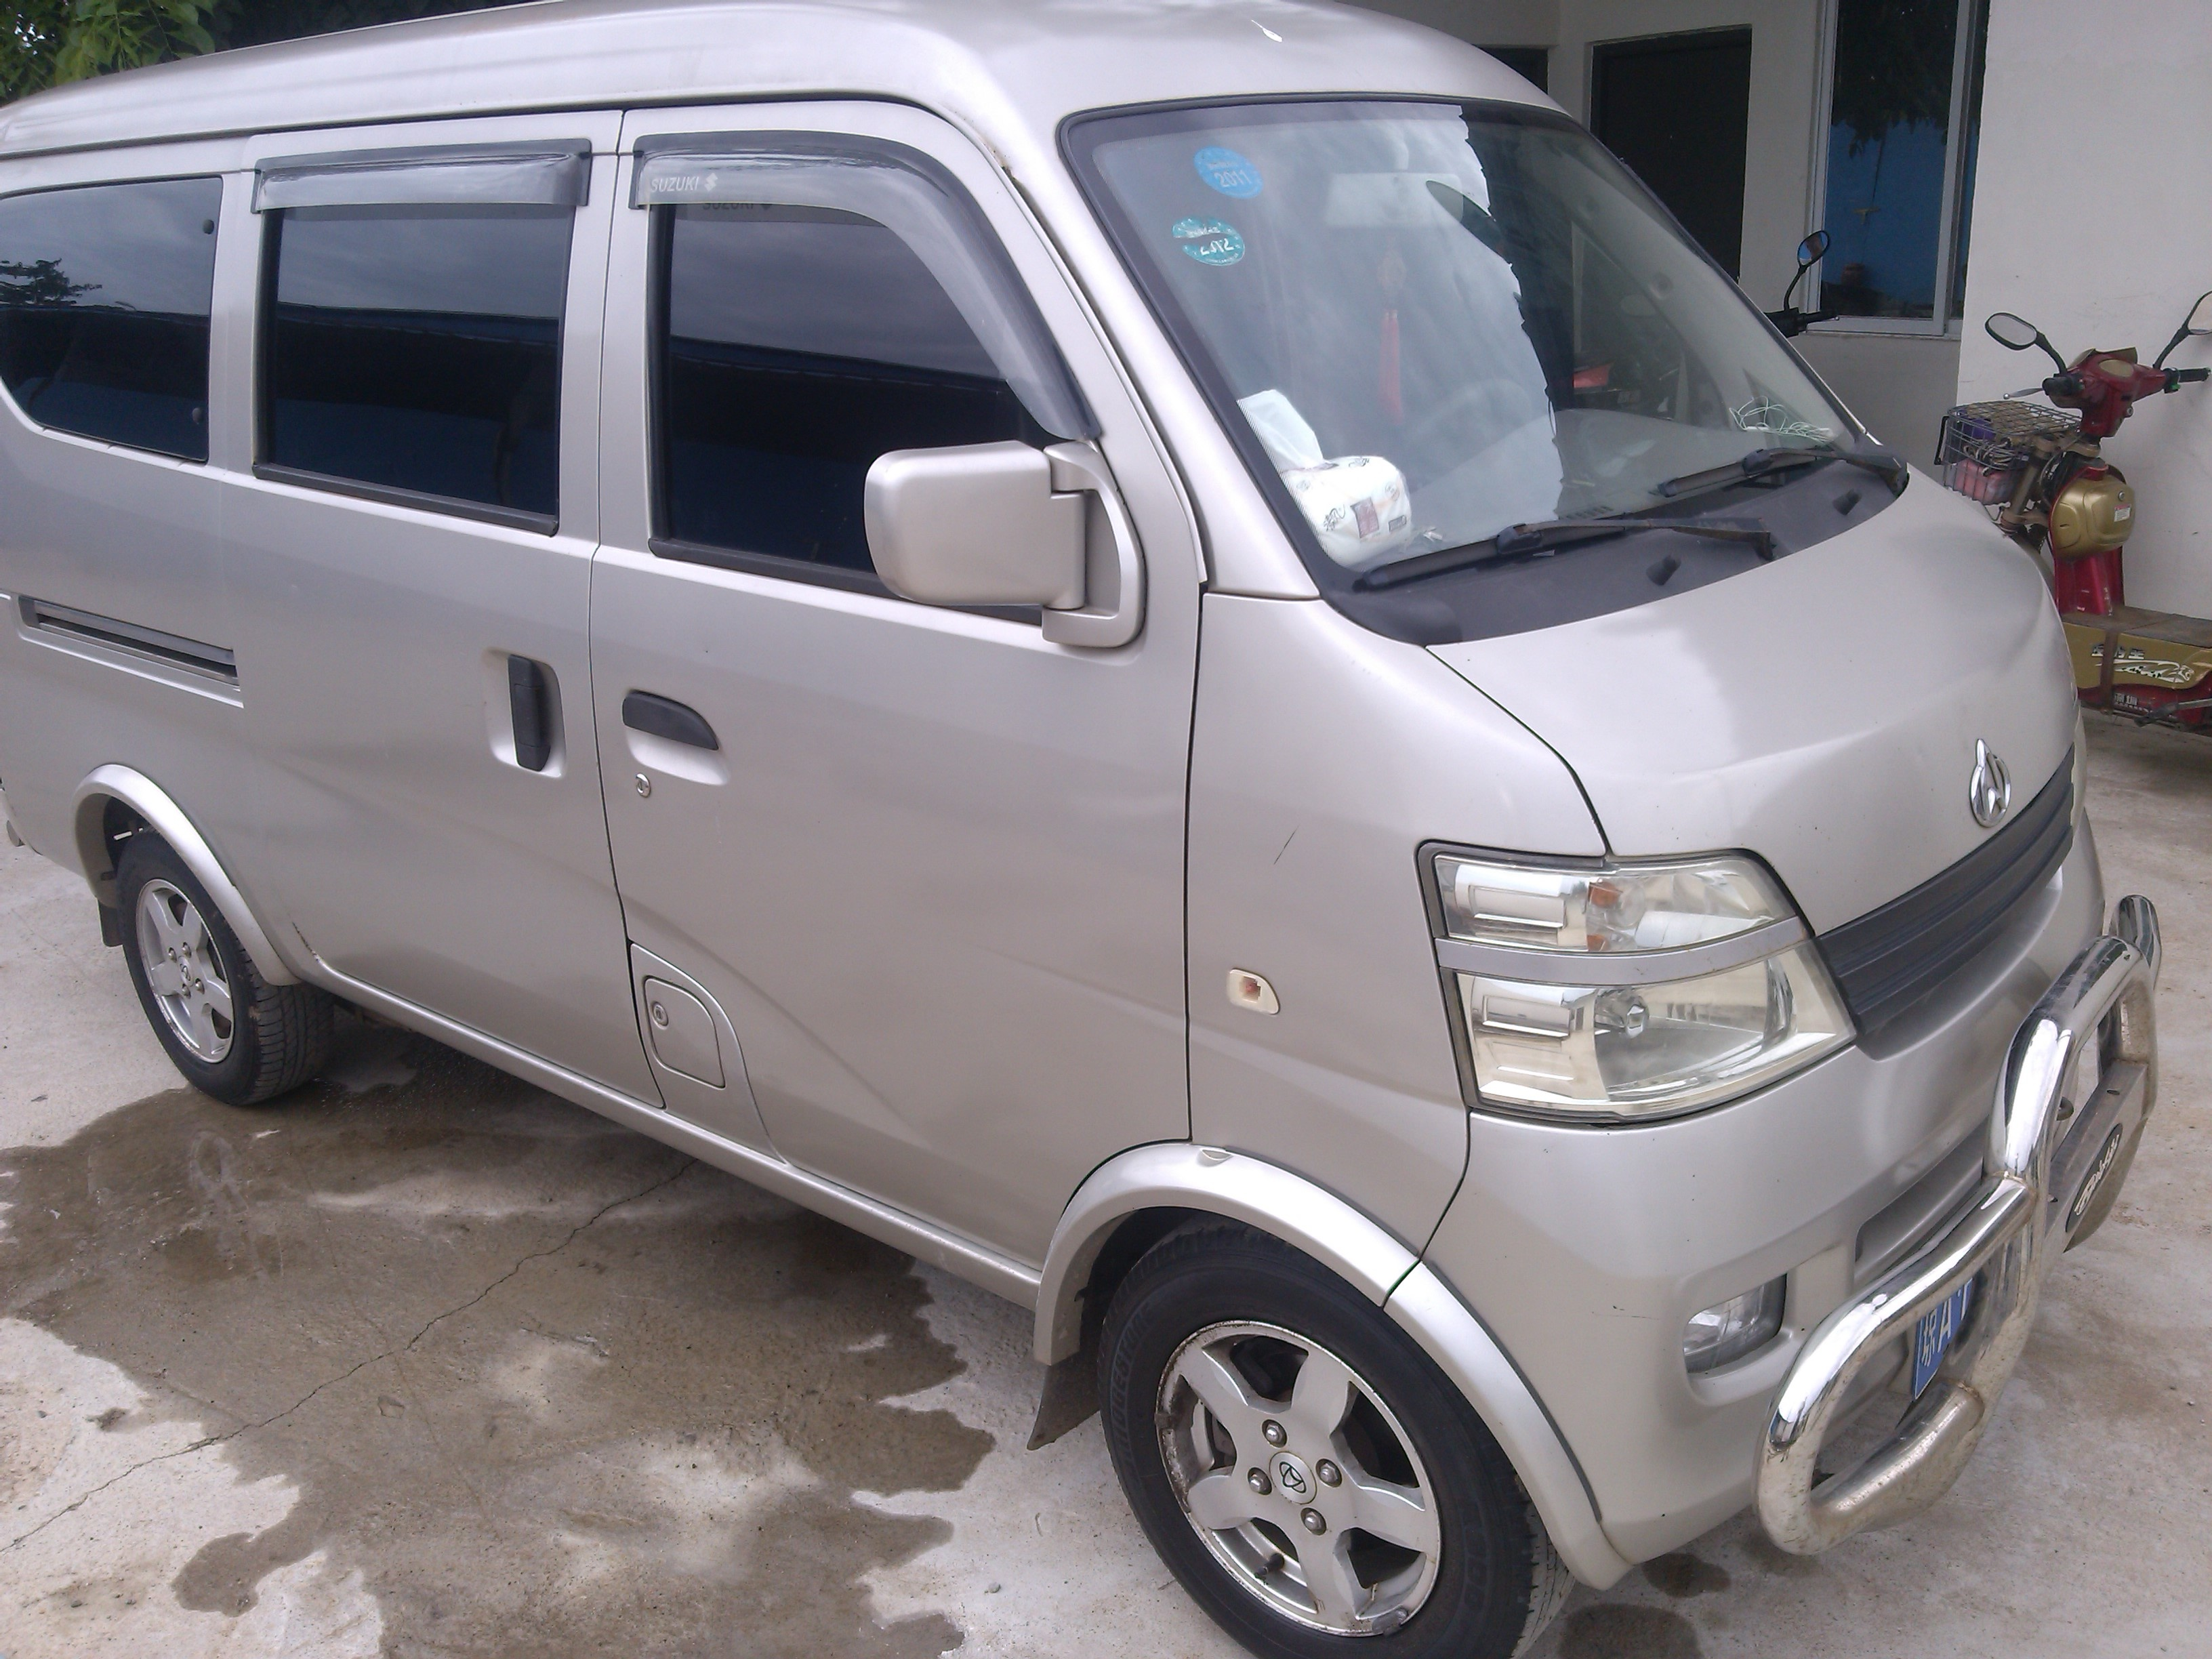minibus: (35, 42, 2161, 1645)
